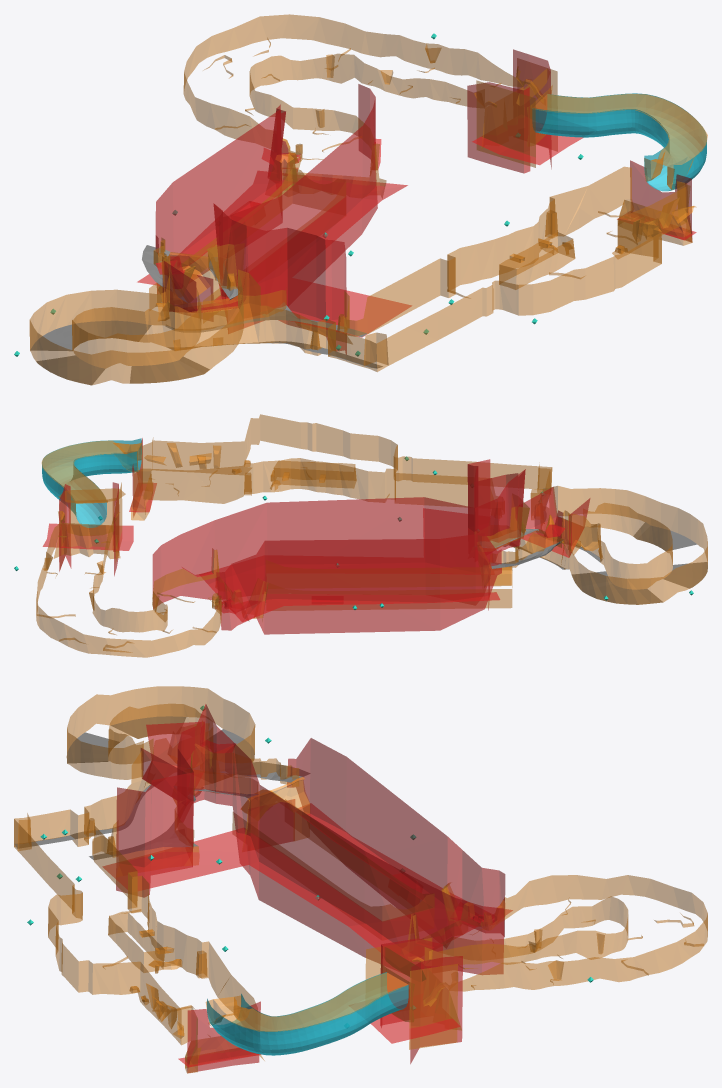
File: Barin Ruins (Complete).obj
3 views of the same model, one above another, from view 1: azimuth 30°, elevation 25°; view 2: azimuth 150°, elevation 25°; view 3: azimuth 270°, elevation 25° (orthographic). The views are drawn at different scales.
Visible parts, largest first — view 1: COL_wall_01, COL_reset03, COL_reset04, COL_maglev01, COL_reset01, COL_icetrack_00, COL_graveltrack, COL_reset02, COL_groundreset01; view 2: COL_wall_01, COL_reset03, COL_reset04, COL_maglev01, COL_icetrack_00, COL_reset01, COL_graveltrack, COL_reset02; view 3: COL_wall_01, COL_reset03, COL_reset04, COL_reset01, COL_maglev01, COL_graveltrack, COL_icetrack_00, COL_reset02, COL_groundreset01.
Boxes of the visible parts, left/top/right/bottom form: COL_wall_01: left=29, top=14, right=707, bottom=385; COL_reset03: left=155, top=84, right=377, bottom=354; COL_reset04: left=137, top=171, right=411, bottom=337; COL_maglev01: left=532, top=93, right=706, bottom=191; COL_reset01: left=467, top=49, right=583, bottom=173; COL_icetrack_00: left=30, top=320, right=209, bottom=385; COL_graveltrack: left=142, top=245, right=382, bottom=368; COL_reset02: left=617, top=160, right=696, bottom=242; COL_groundreset01: left=178, top=139, right=381, bottom=320; COL_wall_01: left=36, top=414, right=707, bottom=657; COL_reset03: left=152, top=459, right=590, bottom=634; COL_reset04: left=205, top=508, right=499, bottom=622; COL_maglev01: left=42, top=438, right=141, bottom=527; COL_icetrack_00: left=571, top=522, right=707, bottom=604; COL_reset01: left=43, top=482, right=133, bottom=575; COL_graveltrack: left=480, top=488, right=602, bottom=569; COL_reset02: left=129, top=438, right=156, bottom=516; COL_wall_01: left=14, top=686, right=707, bottom=1073; COL_reset03: left=116, top=704, right=505, bottom=974; COL_reset04: left=103, top=803, right=477, bottom=952; COL_reset01: left=370, top=938, right=462, bottom=1063; COL_maglev01: left=207, top=972, right=408, bottom=1055; COL_graveltrack: left=14, top=761, right=310, bottom=860; COL_icetrack_00: left=67, top=716, right=254, bottom=774; COL_reset02: left=178, top=1001, right=260, bottom=1072; COL_groundreset01: left=258, top=799, right=512, bottom=947.
Size of what is drawn, in the model's own units: 479 by 98.85 by 403.
